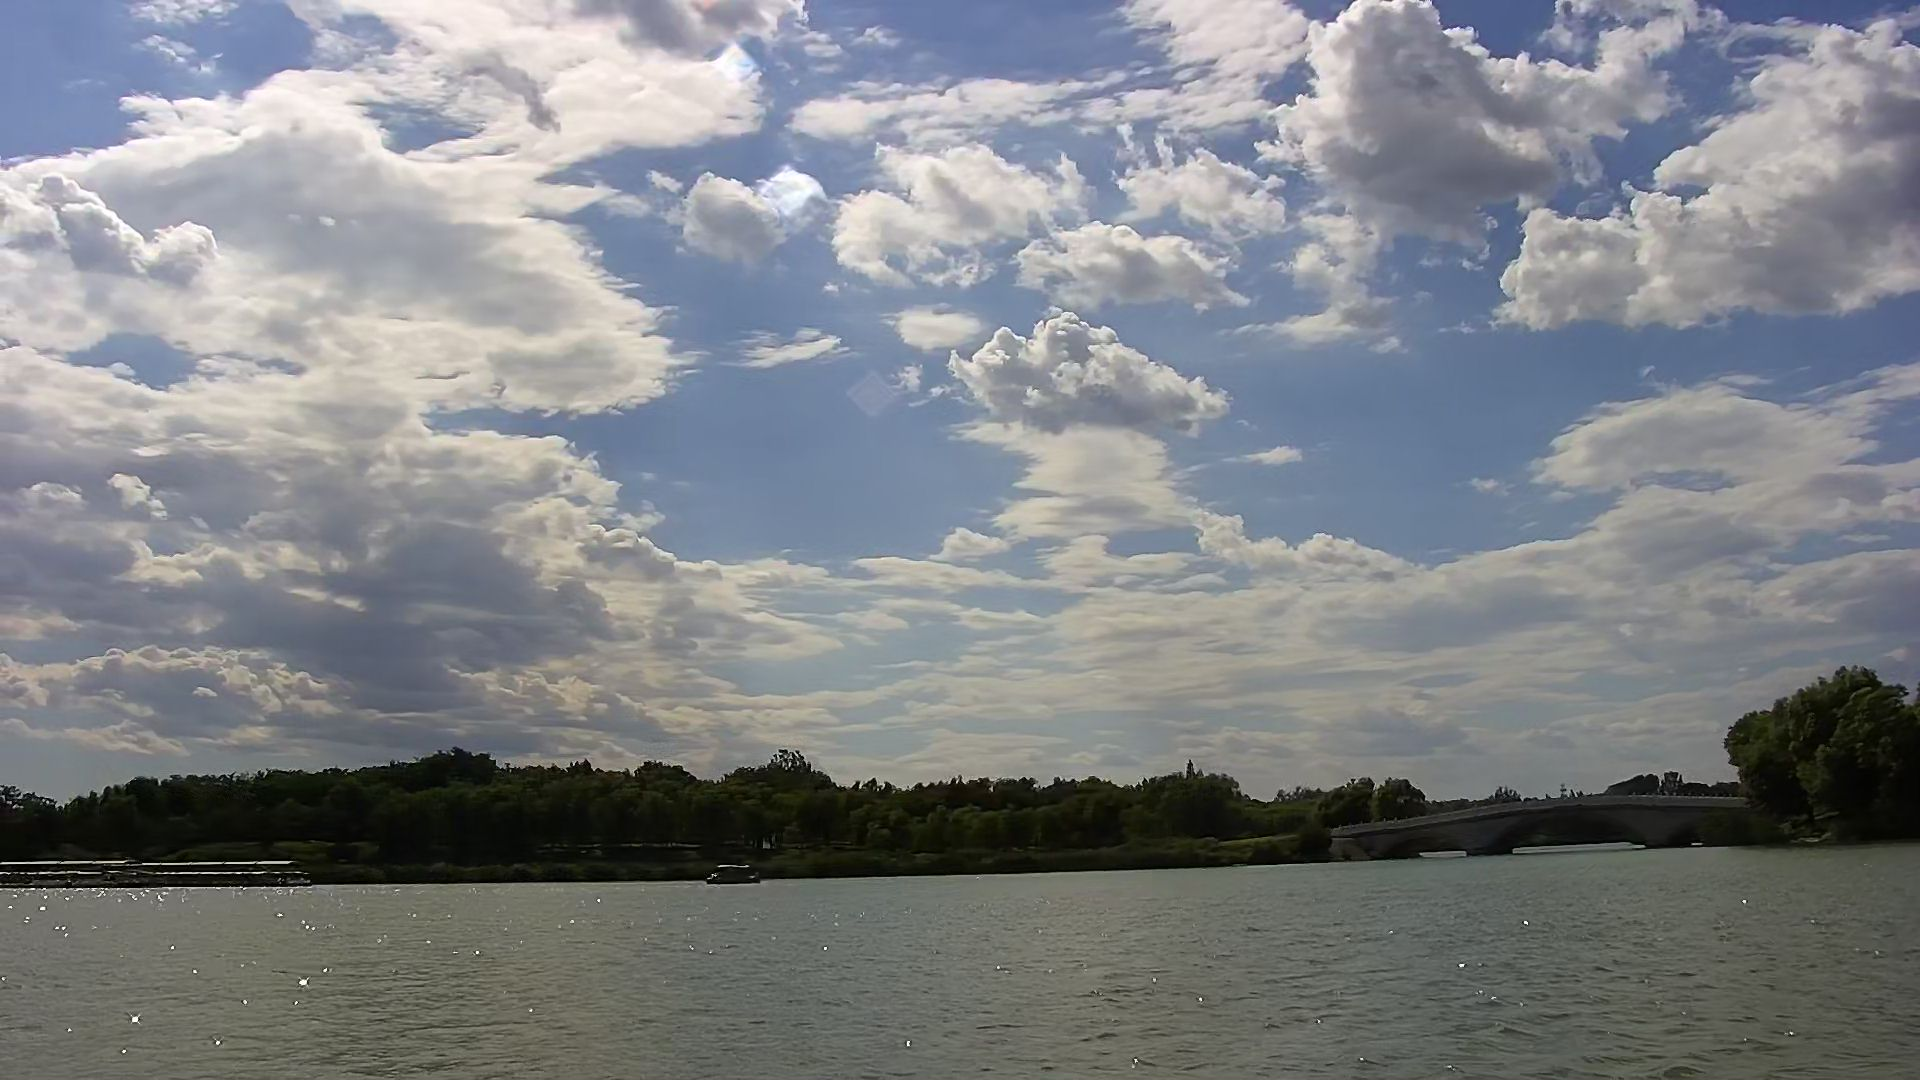boat: (705, 858, 754, 880)
bridge: (1352, 795, 1731, 853)
harbor: (4, 855, 305, 886)
